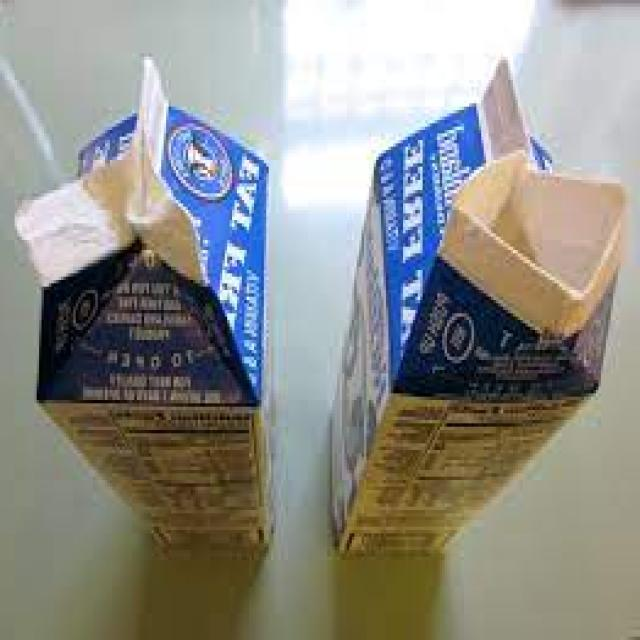cardboard: (318, 63, 624, 562), (32, 55, 275, 569)
